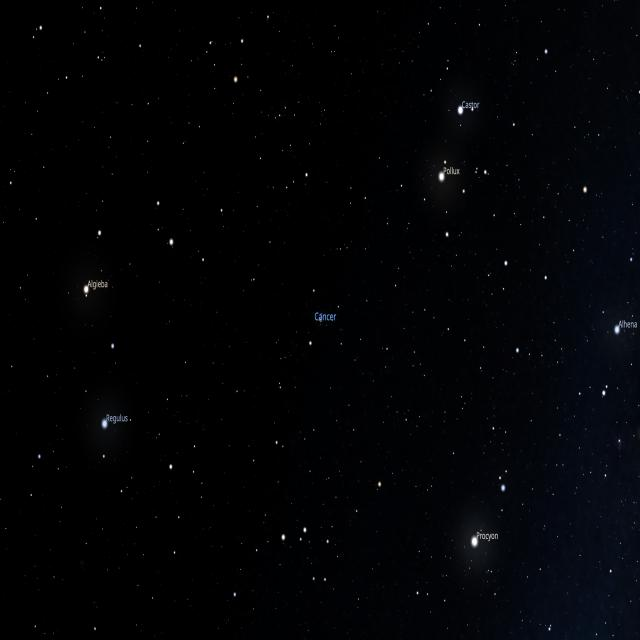Cancer: (272, 170, 386, 491)
